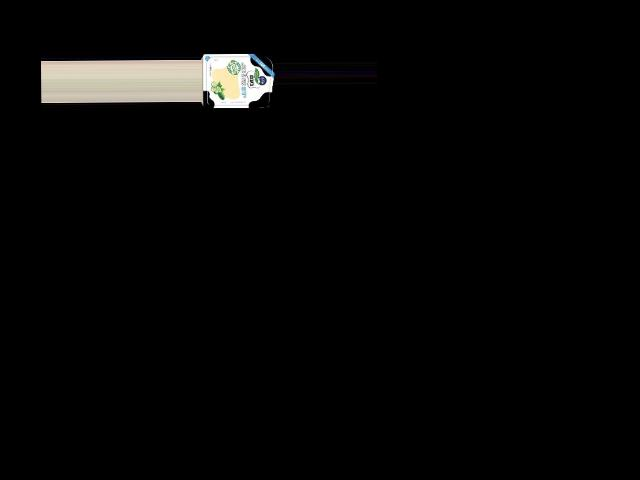cheese: (200, 50, 273, 111)
